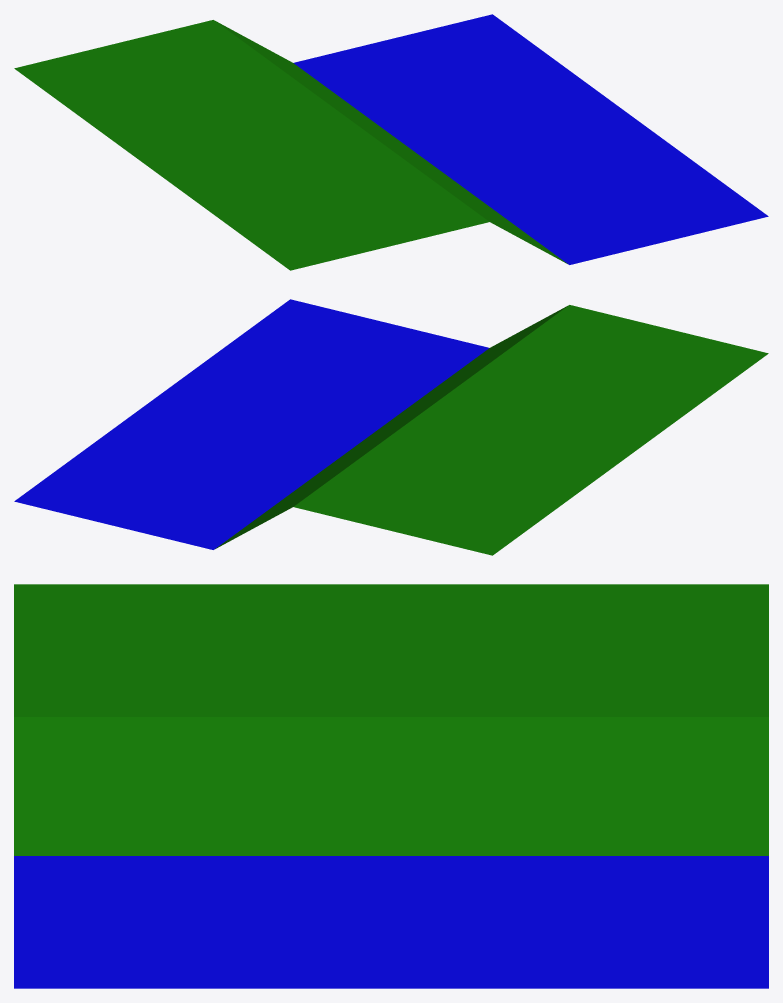
File: water-side.fbx
3 views of the same model, one above another, from view 1: azimuth 30°, elevation 25°; view 2: azimuth 150°, elevation 25°; view 3: azimuth 270°, elevation 25° (orthographic). The views are drawn at different scales.
Parts seen in each view (by area): view 1: water-side; view 2: water-side; view 3: water-side.
Part boxes in pixels (<box>): water-side: <box>14,14,768,270</box>; water-side: <box>14,299,768,555</box>; water-side: <box>14,584,768,988</box>.
Size of the model in its own units: 200 by 25 by 200.
